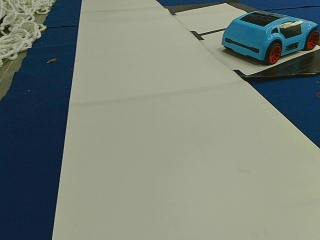car: (221, 10, 317, 64)
